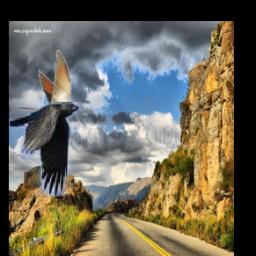Crow: (9, 103, 80, 197)
Cuckoo: (16, 50, 78, 117)
